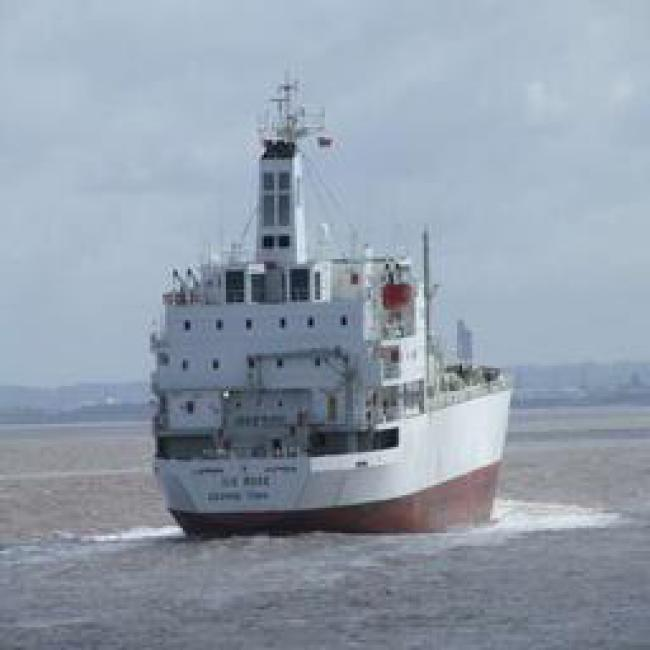Ship: (126, 135, 511, 548)
